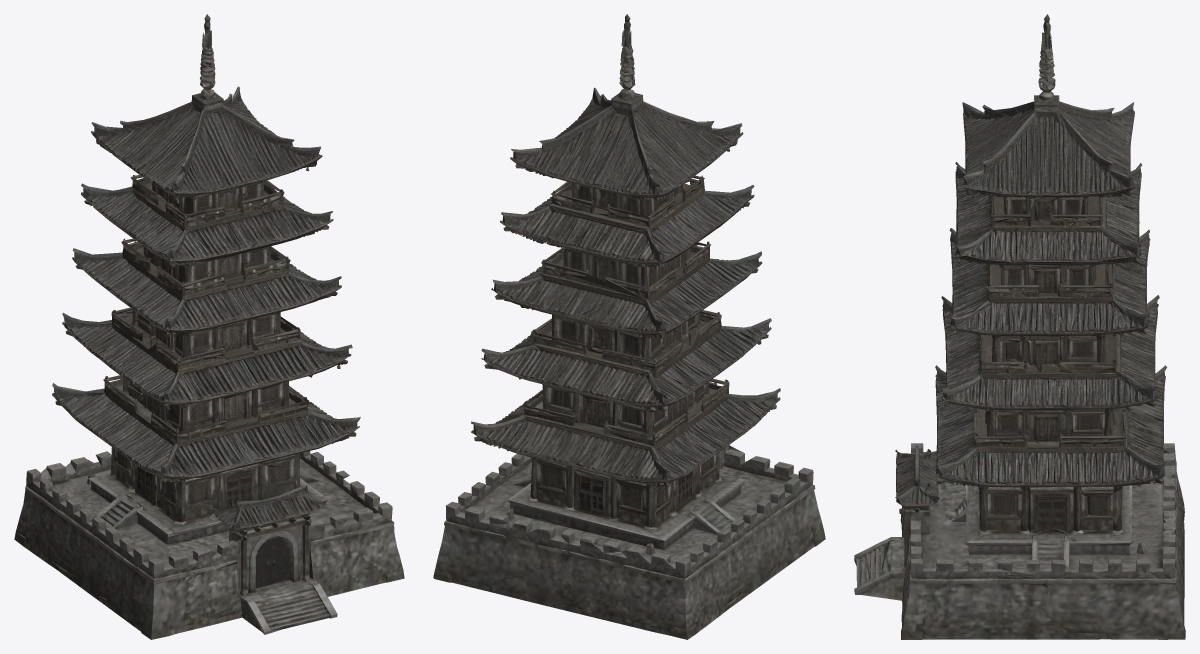
File: calodanpagoda.glb
3 views of the same model, side by side, from view 1: azimuth 30°, elevation 25°; view 2: azimuth 150°, elevation 25°; view 3: azimuth 270°, elevation 25° (orthographic). The views are drawn at different scales.
Visible parts, largest first — view 1: calodanpagoda-centred; view 2: calodanpagoda-centred; view 3: calodanpagoda-centred.
Boxes of the visible parts, bbox=[...] form: calodanpagoda-centred: bbox=[14, 14, 404, 639]; calodanpagoda-centred: bbox=[433, 14, 825, 639]; calodanpagoda-centred: bbox=[854, 14, 1185, 639].
Size of the model in its own units: 21.95 by 45 by 24.05.
Materials: 1 (1 with a texture image).
